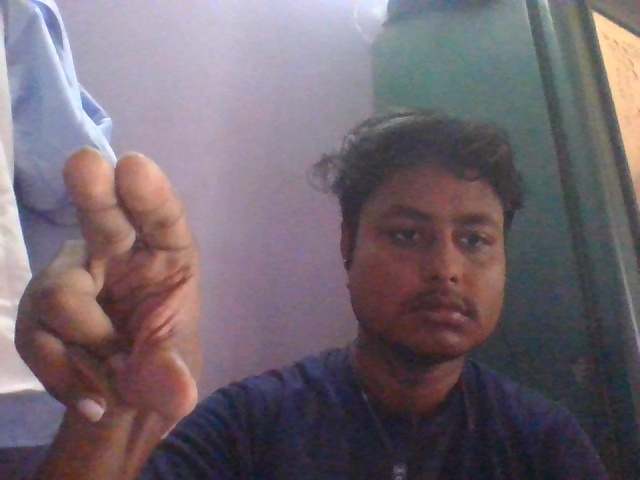no: (13, 148, 209, 455)
